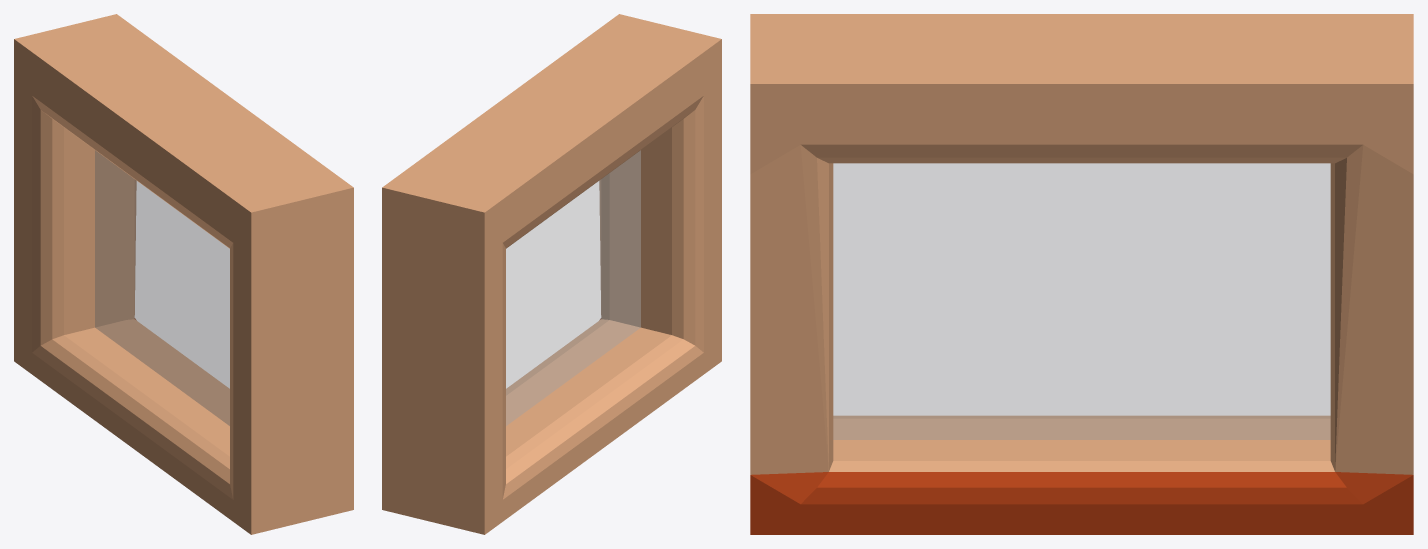
The model's file is paredejanela.fbx.
3 views of the same model, side by side, from view 1: azimuth 30°, elevation 25°; view 2: azimuth 150°, elevation 25°; view 3: azimuth 270°, elevation 25° (orthographic). The views are drawn at different scales.
Visible parts, largest first — view 1: Parede com Janelao; view 2: Parede com Janelao; view 3: Parede com Janelao.
Part boxes in pixels (x1,y1,x2,y2): Parede com Janelao: [14, 14, 353, 534]; Parede com Janelao: [382, 14, 721, 534]; Parede com Janelao: [750, 14, 1413, 534].
Bounding box in the file's own units: 1 × 4 × 3.
3 materials, 1 textured.
